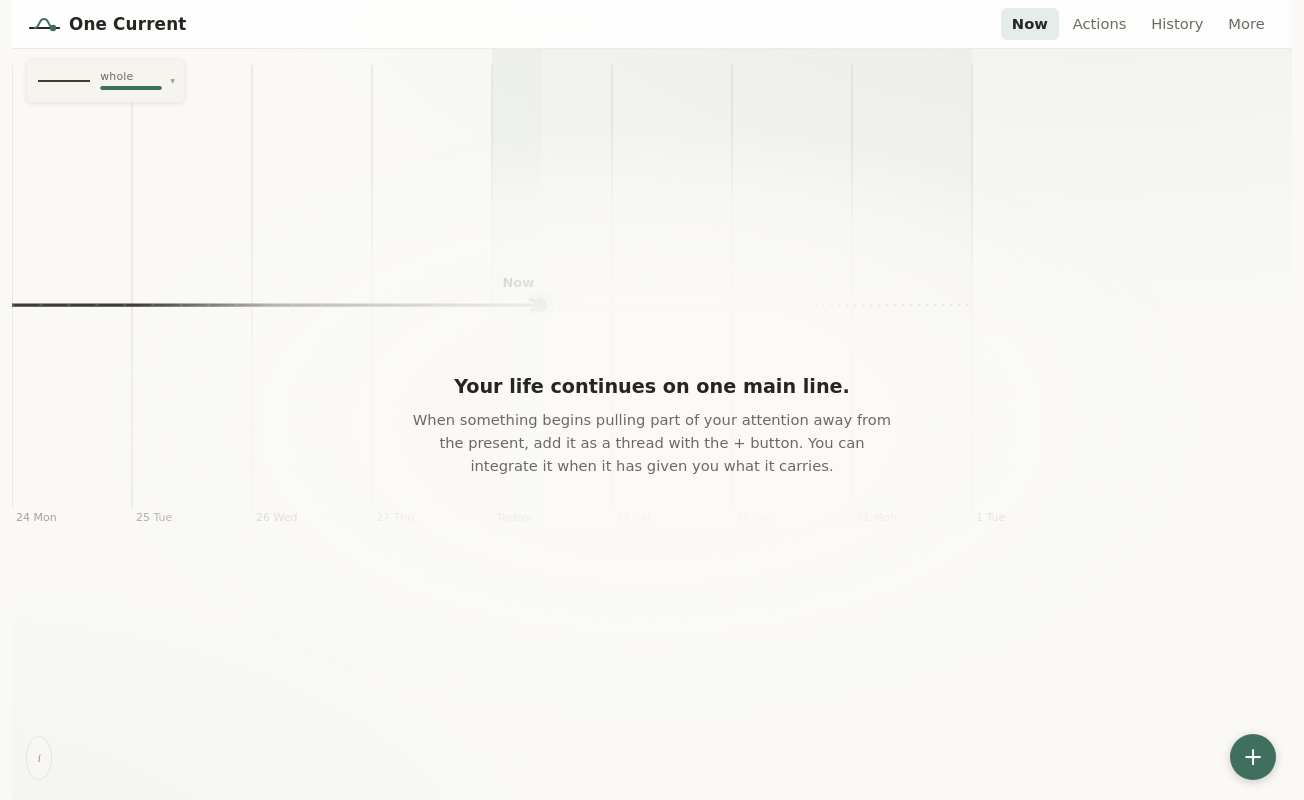
Scenario: app flows › reviews the past in History with filter chips
The image size is (1304, 800).
Click the button "History".
click(1177, 24)  # box x1=1140 y1=8 x2=1215 y2=40
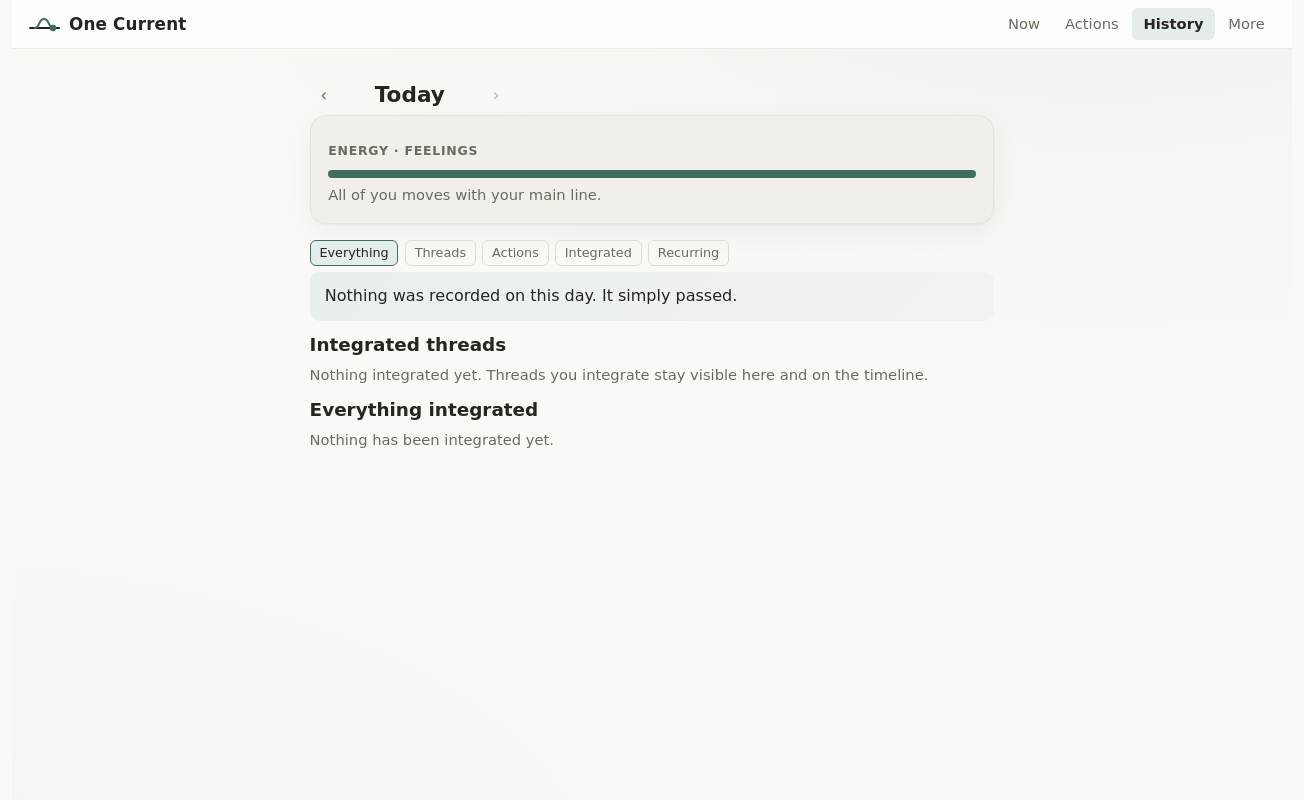
Now the element named "Recent days" is shown, box x1=310 y1=80 x2=510 y2=112
Now the text "Nothing was recorded on this day. It simply passed." is shown, box x1=310 y1=272 x2=994 y2=321
Click the button "Integrated".
click(598, 253)  # box x1=555 y1=240 x2=642 y2=266
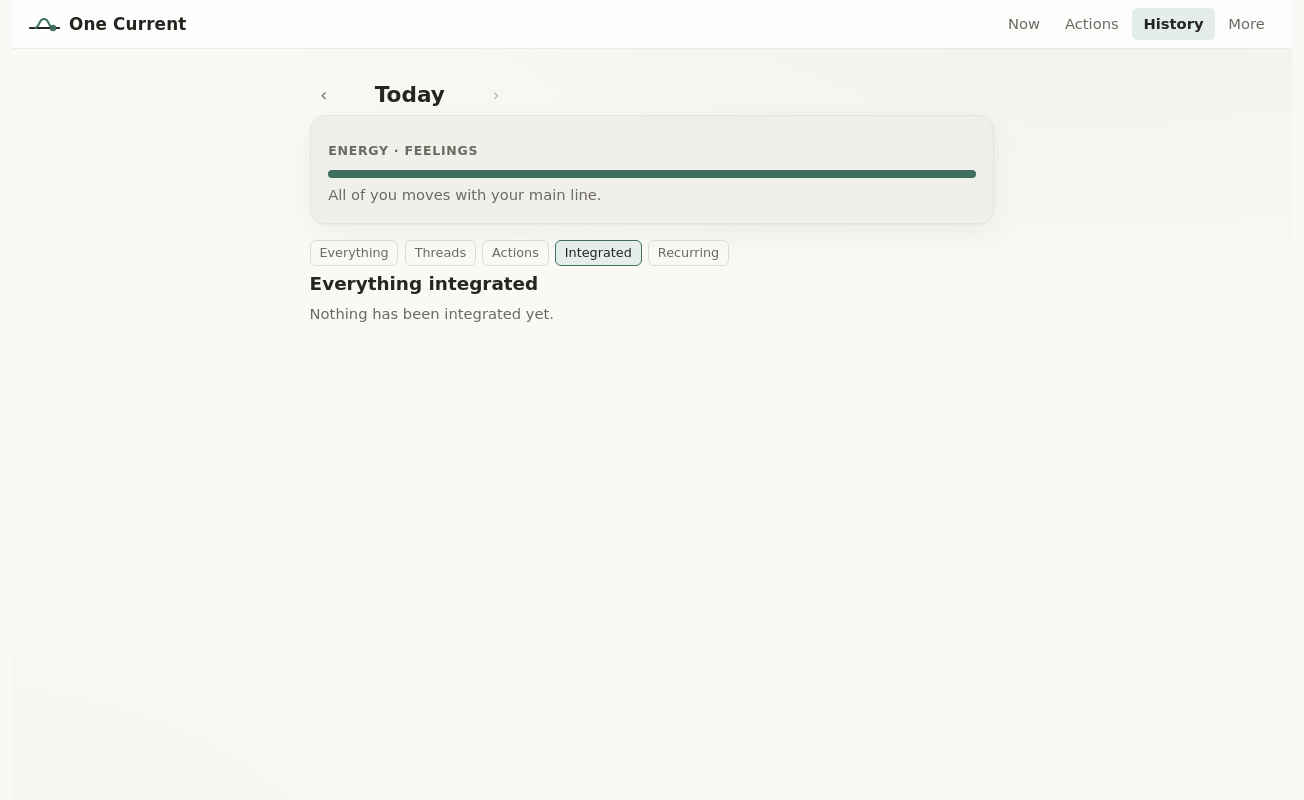
Now the heading "Everything integrated" is shown, box x1=310 y1=273 x2=538 y2=294
Now the element named "Recent days" is shown, box x1=310 y1=80 x2=510 y2=112
Now the text "Nothing was recorded on this day" is gone
Click the button "Everything".
click(354, 253)  # box x1=310 y1=240 x2=398 y2=266
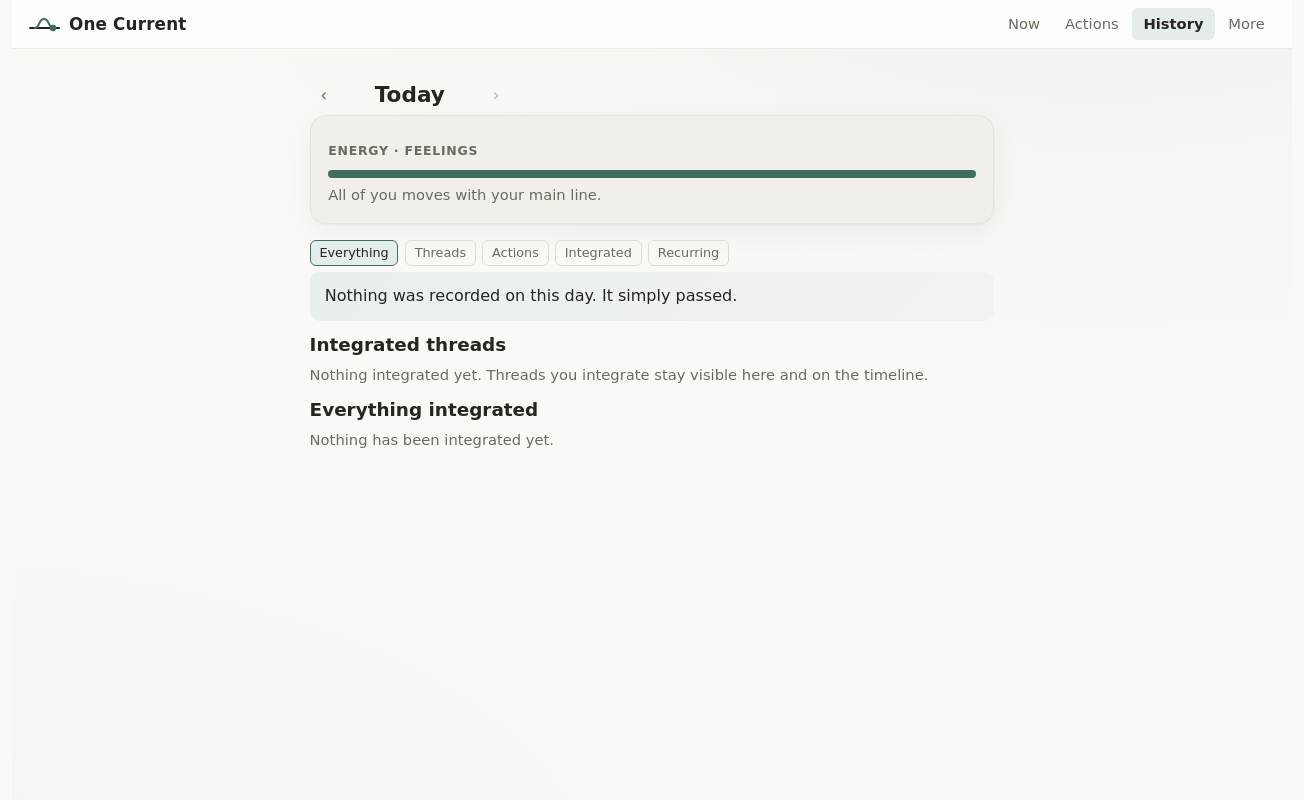
Now the text "Nothing was recorded on this day. It simply passed." is shown, box x1=310 y1=272 x2=994 y2=321
